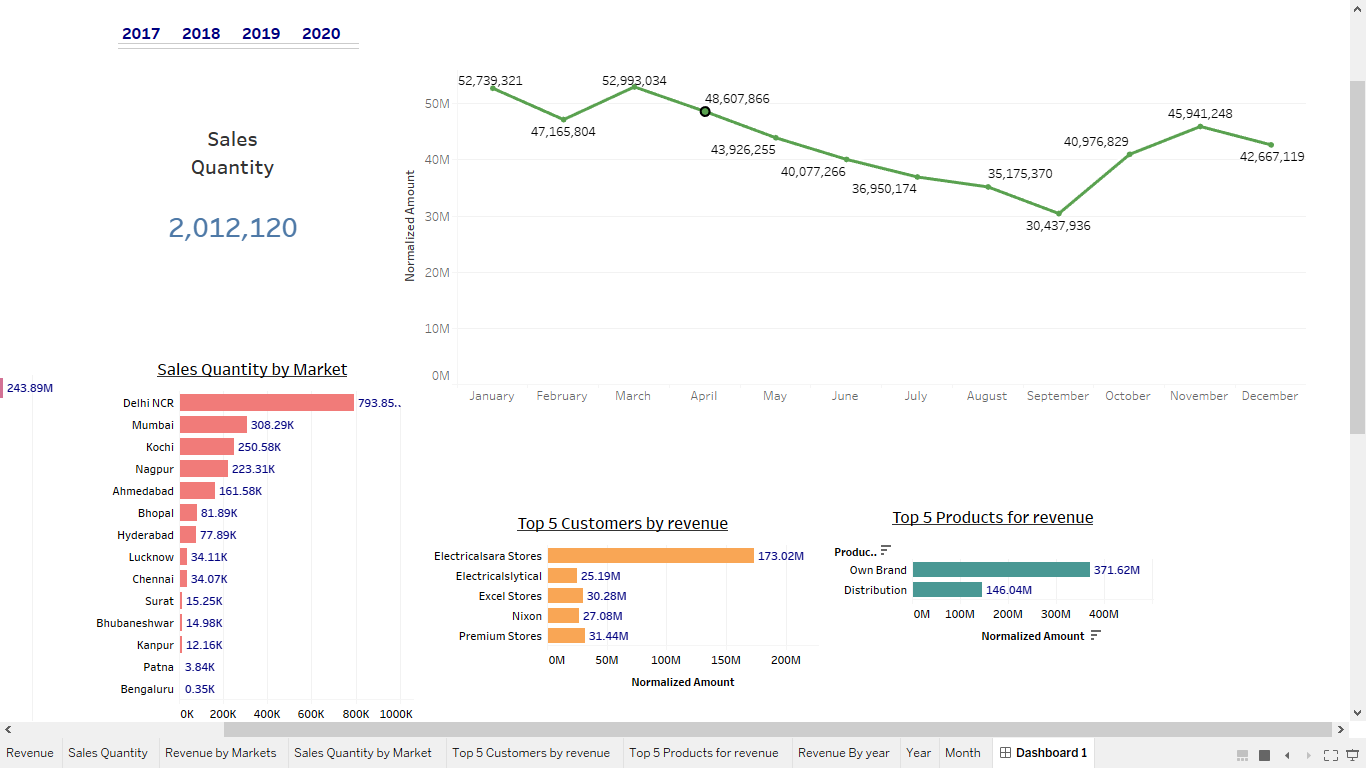

The dashboard page shown, as its layout file describes it:
{"tool":"tableau","page":{"name":"Dashboard 1","canvas":[1600,900],"ordinal":0},"visuals":[{"type":"worksheet","title":"Month ","mark":"Automatic","cols":["cy_date"],"box":[249,16,748,80]},{"type":"worksheet","title":"Year","mark":"Automatic","cols":["cy_date"],"box":[395,76,287,80]},{"type":"worksheet","title":"Revenue By year","mark":"Automatic","rows":["Calculation_945474482712309760"],"cols":["cy_date"],"box":[645,119,912,225]},{"type":"worksheet","title":"Sales Quantity","mark":"Automatic","box":[414,161,162,133]},{"type":"worksheet","title":"Revenue","mark":"Automatic","box":[26,169,238,102]},{"type":"worksheet","title":"Revenue by Markets","mark":"Automatic","rows":["markets_name"],"cols":["Calculation_945474482712309760"],"box":[22,301,293,368]},{"type":"worksheet","title":"Sales Quantity by Market","mark":"Automatic","rows":["markets_name"],"cols":["sales_qty"],"box":[342,311,323,380]},{"type":"worksheet","title":"Top 5 Products for revenue","mark":"Automatic","rows":["product_type"],"cols":["Calculation_945474482712309760"],"box":[1083,406,322,191]},{"type":"worksheet","title":"Top 5 Customers by revenue","mark":"Automatic","rows":["custmer_name"],"cols":["Calculation_945474482712309760"],"box":[678,410,392,255]}]}

Visuals, with their boxes on the page's 1600x900 design canvas (x1, y1, x2, y2). These are canvas units, not pixel positions in the 1366x768 screenshot, which may show the page scaled, cropped or inside an application window:
"Month " worksheet: bbox(249, 16, 997, 96)
"Year" worksheet: bbox(395, 76, 682, 156)
"Revenue By year" worksheet: bbox(645, 119, 1557, 344)
"Sales Quantity" worksheet: bbox(414, 161, 576, 294)
"Revenue" worksheet: bbox(26, 169, 264, 271)
"Revenue by Markets" worksheet: bbox(22, 301, 315, 669)
"Sales Quantity by Market" worksheet: bbox(342, 311, 665, 691)
"Top 5 Products for revenue" worksheet: bbox(1083, 406, 1405, 597)
"Top 5 Customers by revenue" worksheet: bbox(678, 410, 1070, 665)
